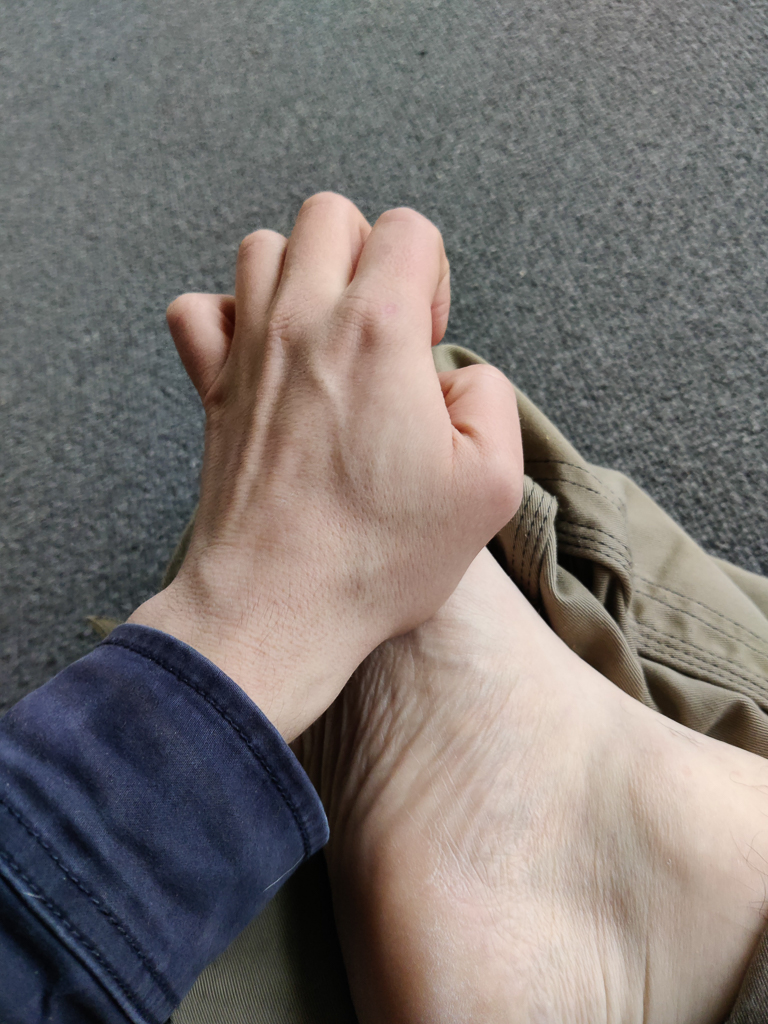Humanoid: (0, 186, 768, 1024)
